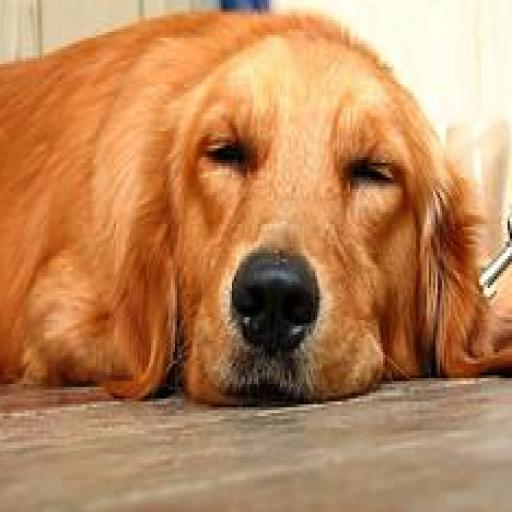dog_face: (131, 41, 462, 404)
